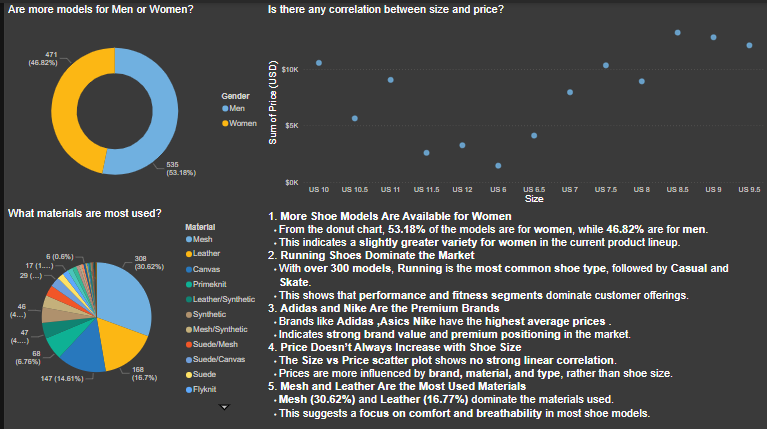

What the dashboard file says about the page in this screenshot:
{"tool":"powerbi","page":{"name":"Page 2","canvas":[1280,720],"ordinal":1},"visuals":[{"type":"donutChart","title":"Are more models for Men or Women?","fields":{"Category":["Shoe prices.Gender"],"Y":["CountNonNull(Shoe prices.Model)"]},"box":[0,0,436.7,342.7],"z":0},{"type":"pieChart","title":"What materials are most used?","fields":{"Category":["Shoe prices.Material"],"Y":["CountNonNull(Shoe prices.Model)"]},"box":[0,342.7,436.7,349.4],"z":1},{"type":"scatterChart","title":"Is there any correlation between size and price?","fields":{"X":["Shoe prices.Size"],"Y":["Sum(Shoe prices.Price (USD))"]},"box":[436.7,0,843.3,342.7],"z":2},{"type":"textbox","box":[436.7,342.7,843.3,378],"z":3}]}

Visuals, with their boxes in screenshot pixels (x1, y1, x2, y2), scaled from the page's 1280x720 canvas onto the 767x429 screenshot:
"Are more models for Men or Women?" donutChart: locate(0, 0, 262, 204)
"What materials are most used?" pieChart: locate(0, 204, 262, 412)
"Is there any correlation between size and price?" scatterChart: locate(262, 0, 766, 204)
textbox: locate(262, 204, 766, 428)
